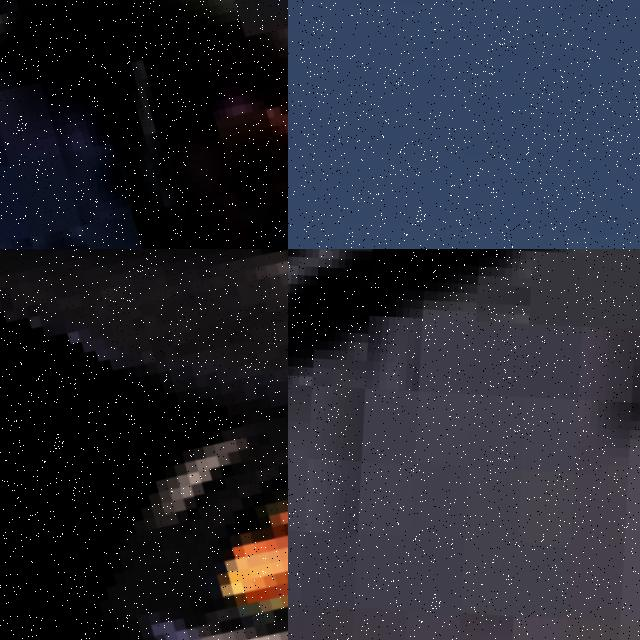0: (0, 0, 288, 249)
drone: (0, 249, 288, 640)
